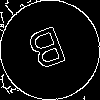B: (25, 25, 72, 80)
